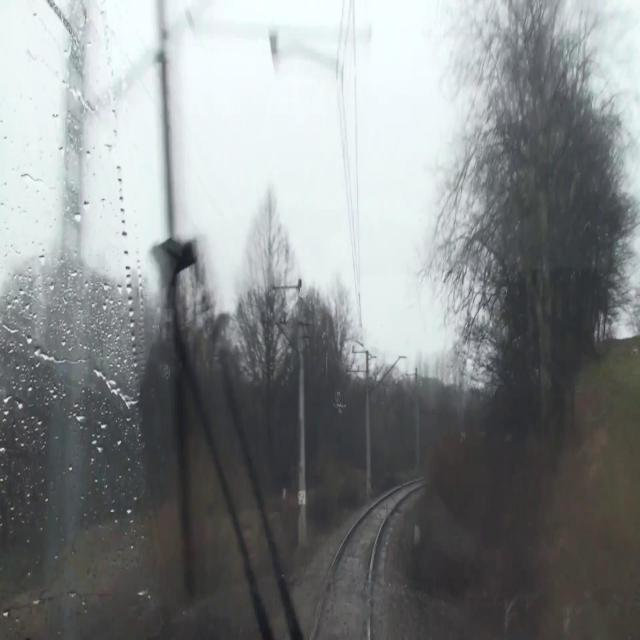rail-track: (317, 494, 398, 639)
